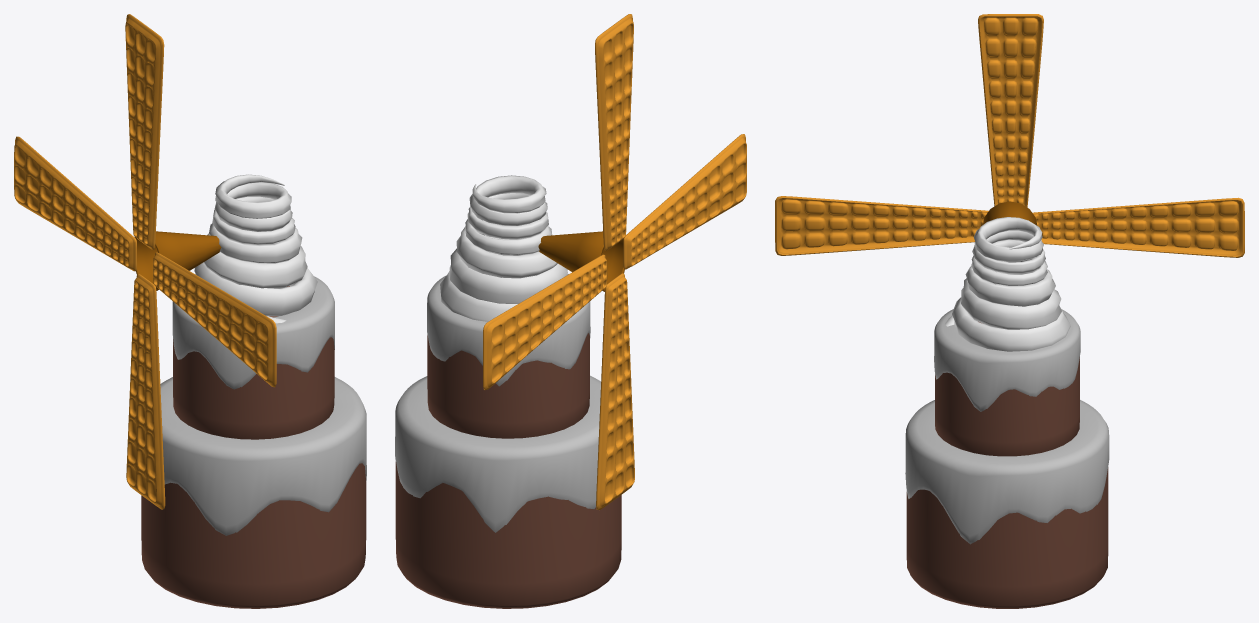
Rendered from molinopastel.fbx.
3 renders of one model, left to right at view 1: azimuth 30°, elevation 25°; view 2: azimuth 150°, elevation 25°; view 3: azimuth 270°, elevation 25°, orthographic. The views are drawn at different scales.
Visible parts, largest first — view 1: PastelGrande, Icing.002, CremaPastel, PastelPeque, Gofre1.003, Gofre1.001, Gofre1.002, Gofre1, Icing.001, Cucurucho; view 2: PastelGrande, Icing.002, CremaPastel, PastelPeque, Gofre1.003, Gofre1.001, Gofre1, Gofre1.002, Icing.001, Cucurucho; view 3: PastelGrande, Icing.002, CremaPastel, Gofre1.003, Gofre1, Gofre1.002, PastelPeque, Icing.001, Cucurucho.
Part boxes in pixels (x1,y1,x2,y2): PastelGrande: (141, 463, 366, 608); Icing.002: (160, 377, 366, 535); CremaPastel: (194, 174, 317, 323); PastelPeque: (173, 286, 334, 439); Gofre1.003: (125, 14, 164, 249); Gofre1.001: (126, 274, 165, 509); Gofre1.002: (153, 252, 276, 387); Gofre1: (14, 136, 136, 271); Icing.001: (172, 276, 334, 389); Cucurucho: (134, 231, 221, 290); PastelGrande: (395, 462, 621, 608); Icing.002: (395, 375, 600, 532); CremaPastel: (440, 175, 567, 321); PastelPeque: (427, 333, 589, 438); Gofre1.003: (595, 14, 633, 250); Gofre1.001: (596, 273, 634, 509); Gofre1: (483, 254, 607, 389); Gofre1.002: (623, 134, 746, 269); Icing.001: (427, 274, 590, 386); Cucurucho: (538, 231, 624, 291); PastelGrande: (906, 467, 1108, 608); Icing.002: (905, 400, 1109, 544); CremaPastel: (945, 217, 1070, 351); Gofre1.003: (978, 14, 1043, 207); Gofre1: (1032, 197, 1244, 257); Gofre1.002: (775, 196, 988, 255); PastelPeque: (935, 321, 1079, 456); Icing.001: (934, 309, 1080, 411); Cucurucho: (983, 201, 1037, 225).
Bounding box in the file's own units: 520 × 1336 × 1121.
